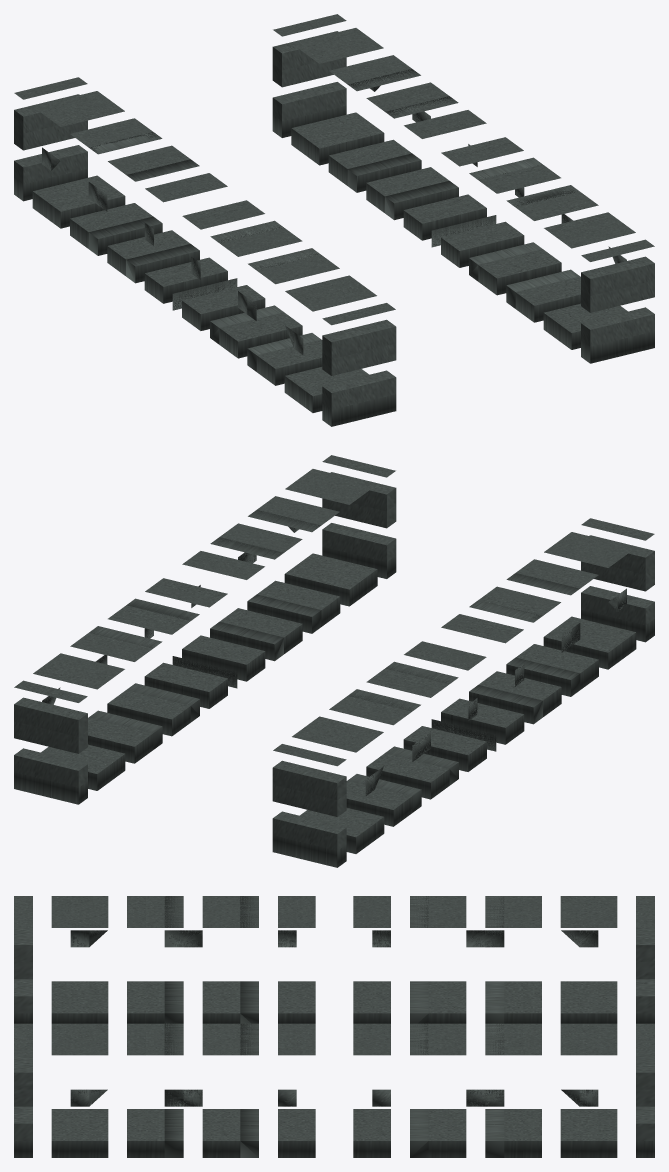
3 views of the same model, one above another, from view 1: azimuth 30°, elevation 25°; view 2: azimuth 150°, elevation 25°; view 3: azimuth 270°, elevation 25° (orthographic).
Size of the model in its own units: 3.4 by 1.02 by 5.78.
Materials: 1 (1 with a texture image).
